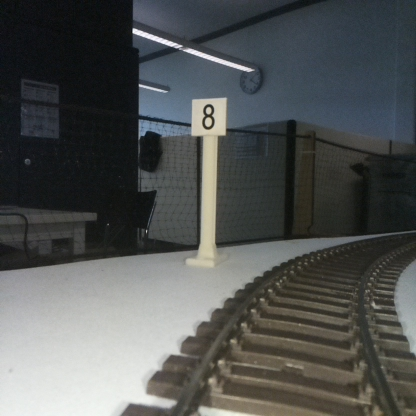white-info-8: (191, 98, 226, 265)
